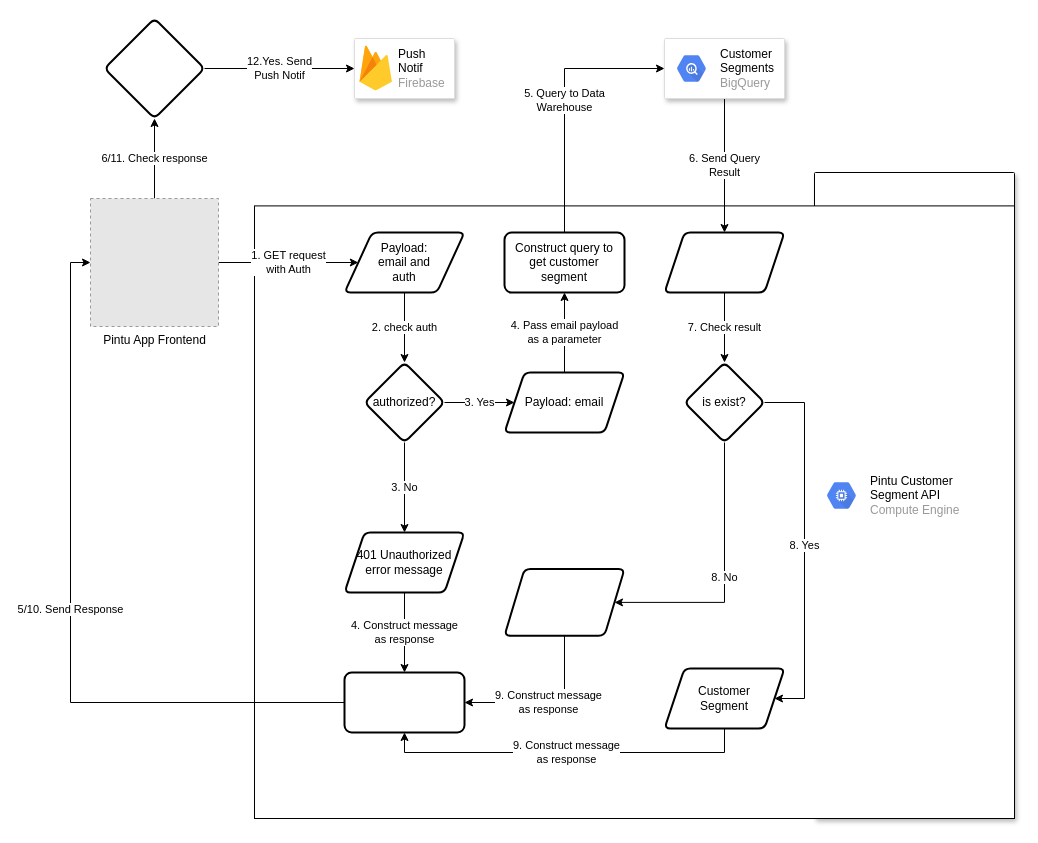
Image size: 1038x843. Some labels were removed from this diagram. Grey dashed boxes stand in for pictures. The shapes that lost their labels are listed below. From the top down, each one's centre as x and y in pixels, then its label:
At (x=154, y=68): "is response customer segment?".
At (x=724, y=262): "Query Result".
At (x=564, y=602): "404 Not found error message".
At (x=404, y=702): "Send message as response".
